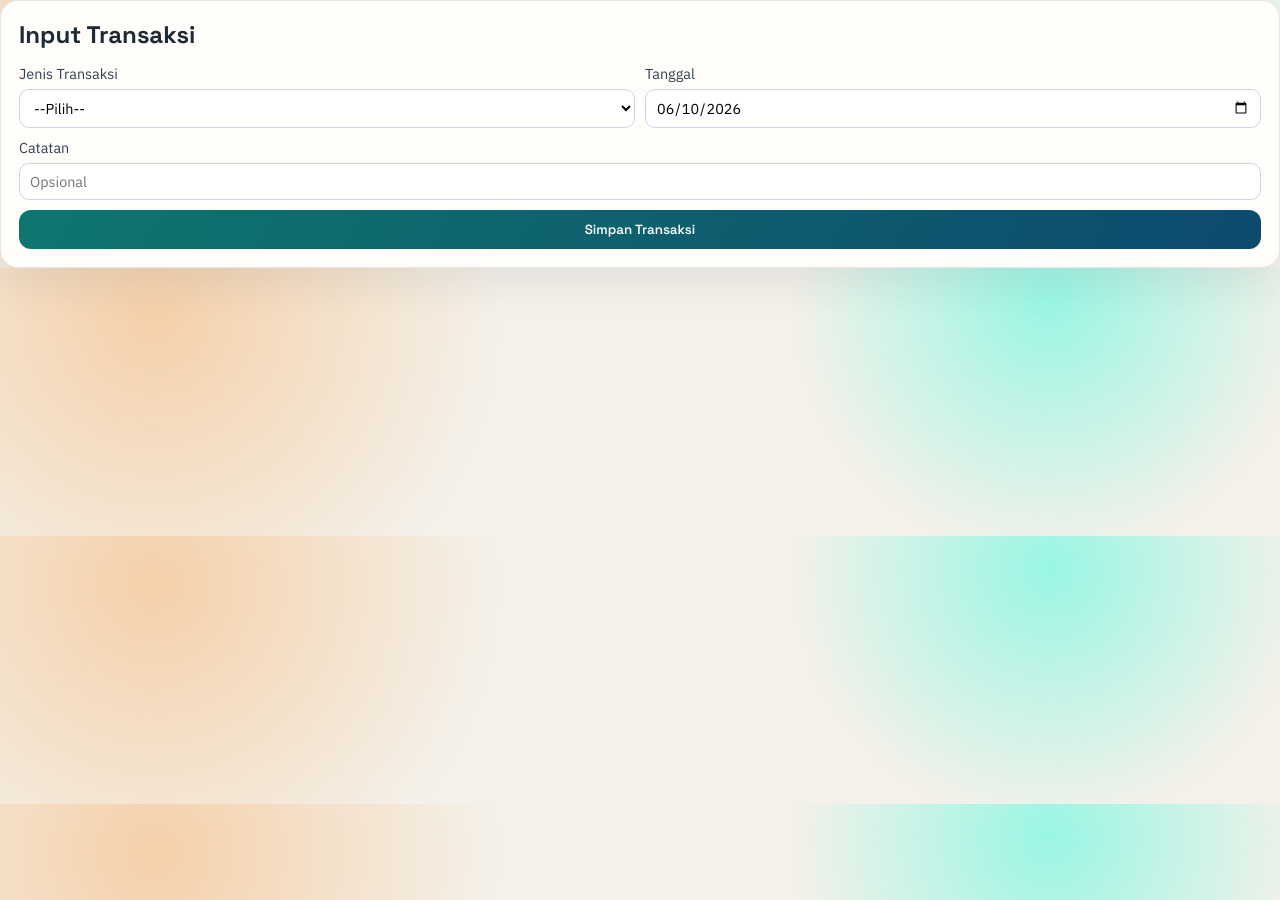
Test case: TransactionForm › formats nominal, submits numeric payload, shows success feedback, and resets fields
Select "Topup" in the dropdown labelled "Jenis Transaksi" at (327, 108), box [19,89,635,128]
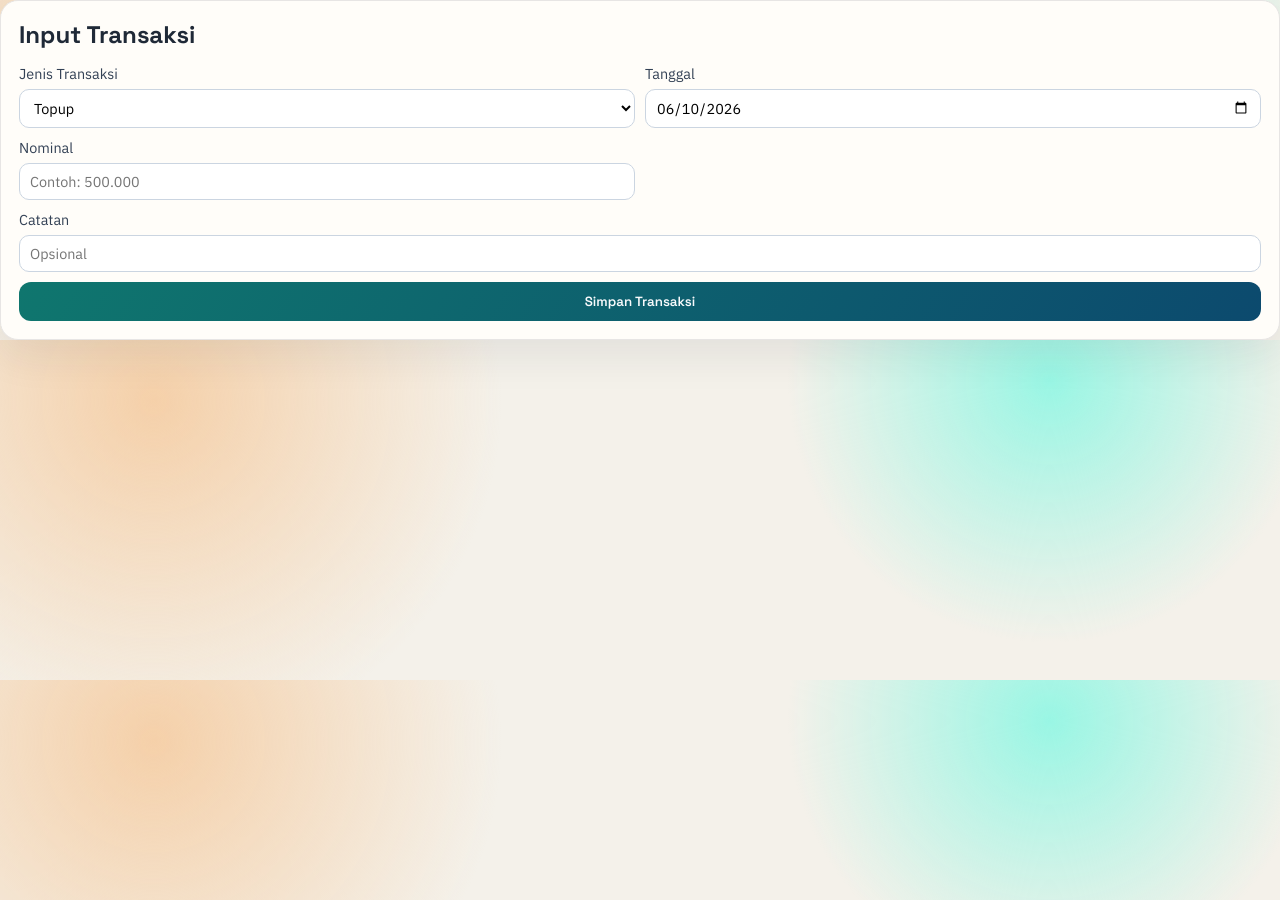
Type "500000" into the field labelled "Nominal".
click(327, 182); type("500000")  # box [19,163,635,200]
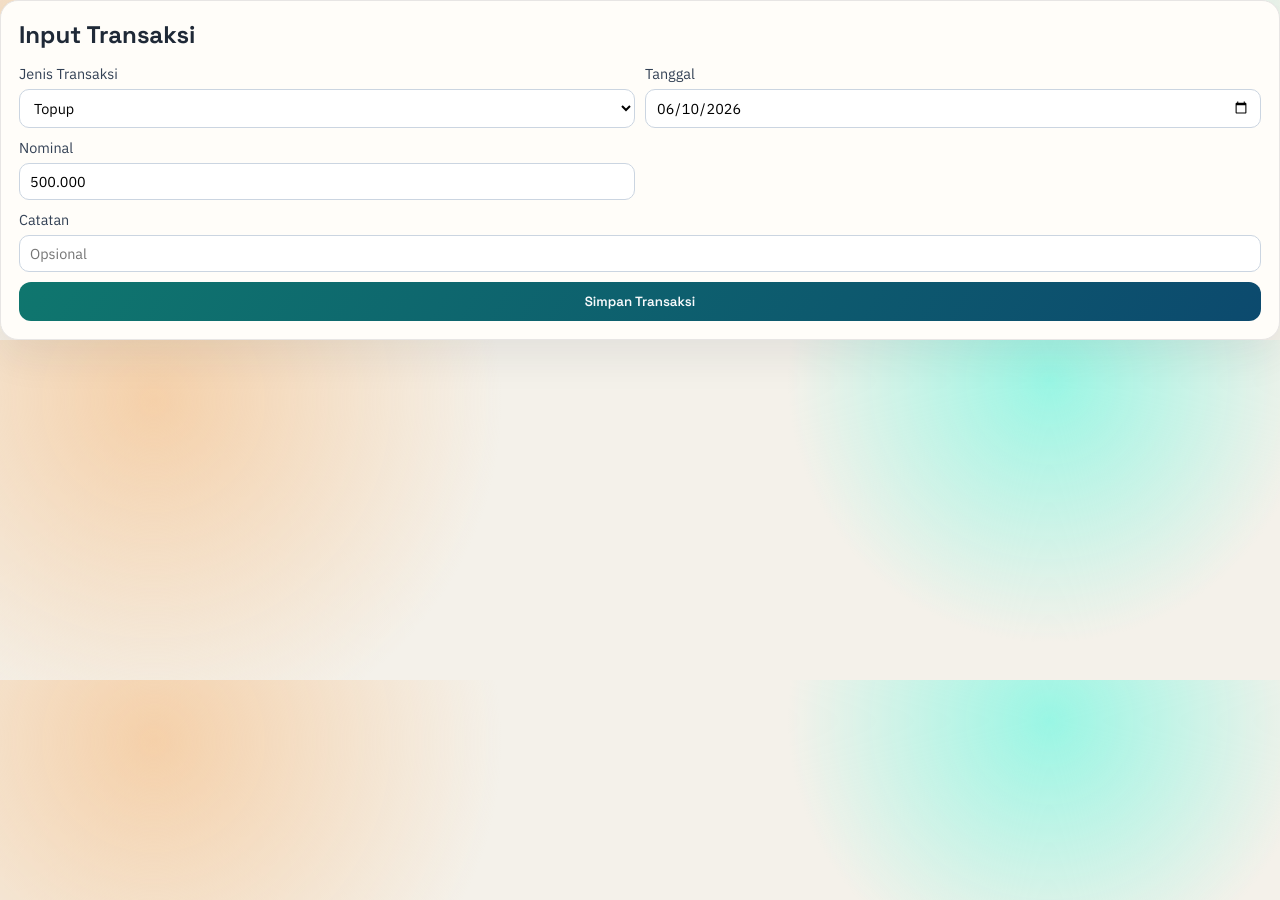
Check: the field labelled "Nominal" holds "500.000", box [19,163,635,200]
Click the button "Simpan Transaksi".
click(640, 302)  # box [19,282,1261,321]
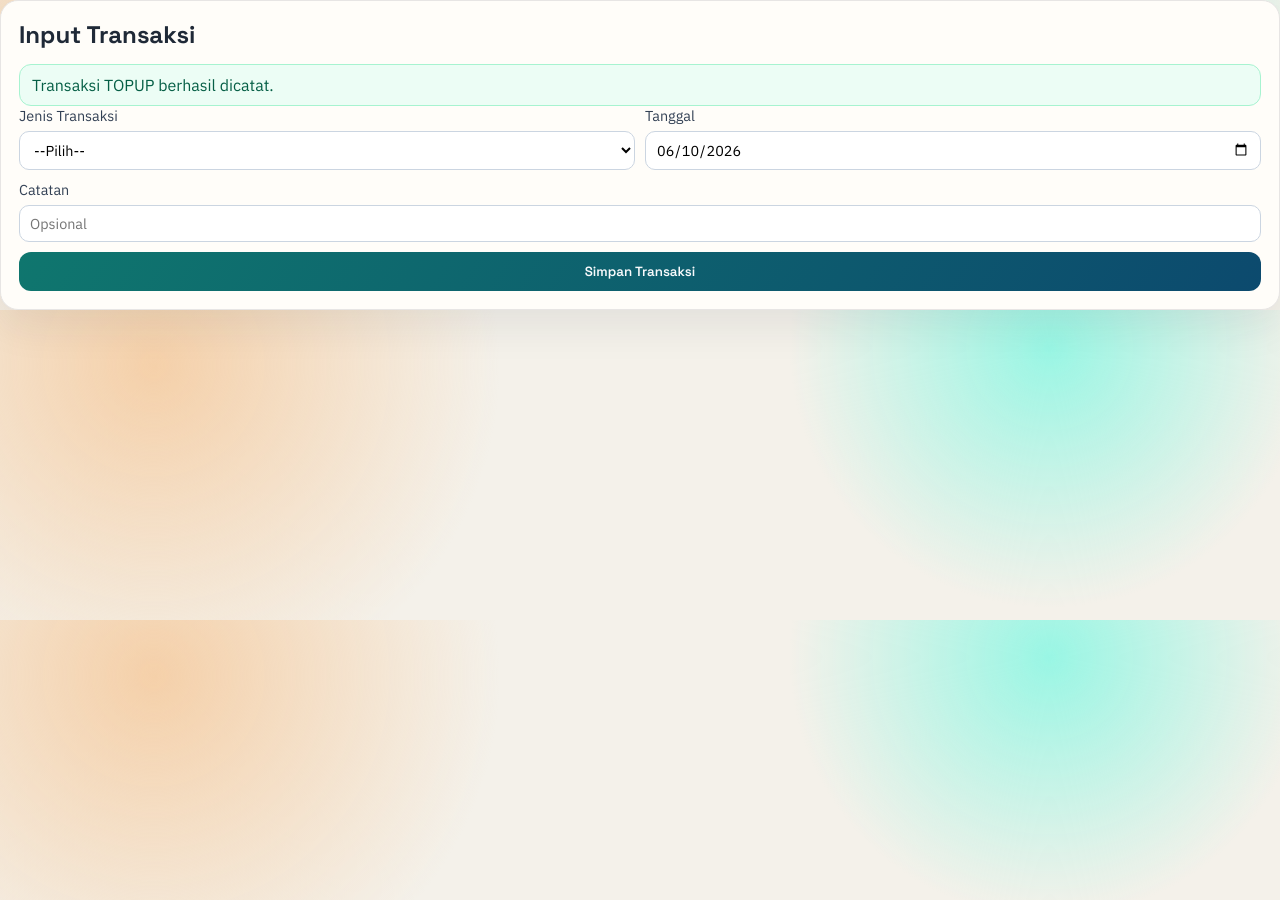
Check: the text "Transaksi TOPUP berhasil dicatat." is shown, box [19,64,1261,106]
Check: the label labelled "Nominal" is gone
